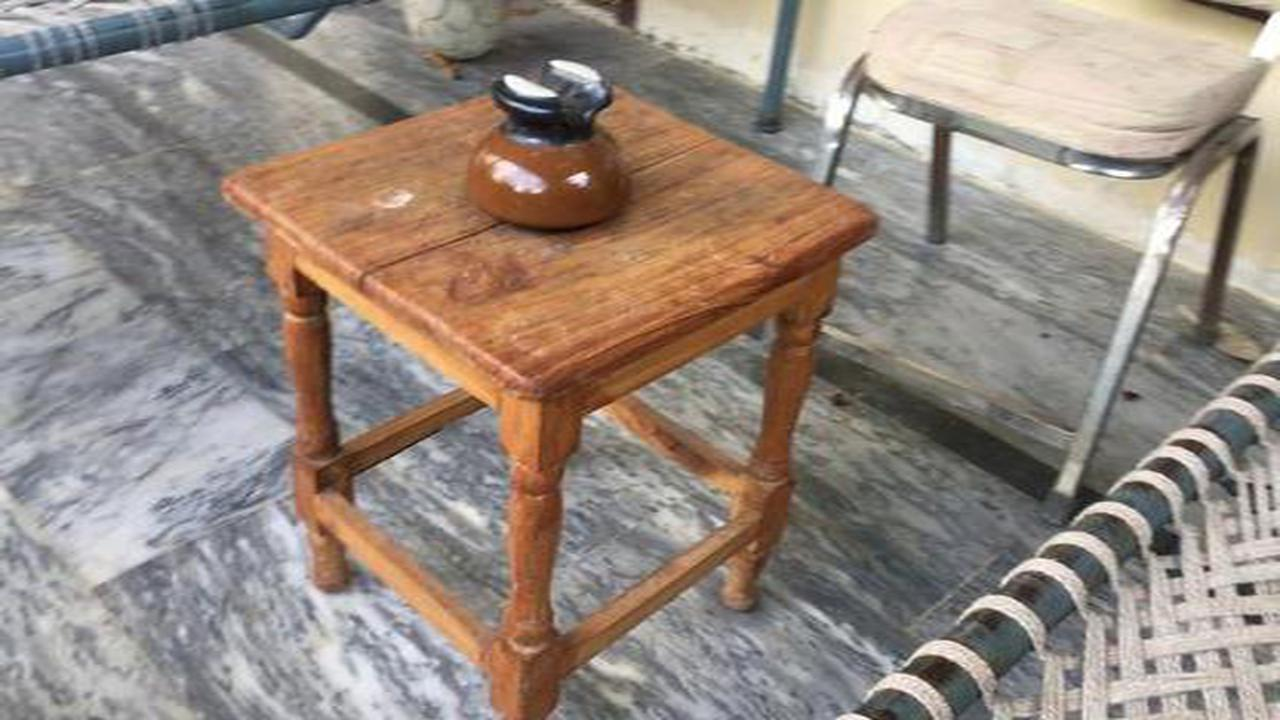insulator_pin: (453, 35, 653, 243)
